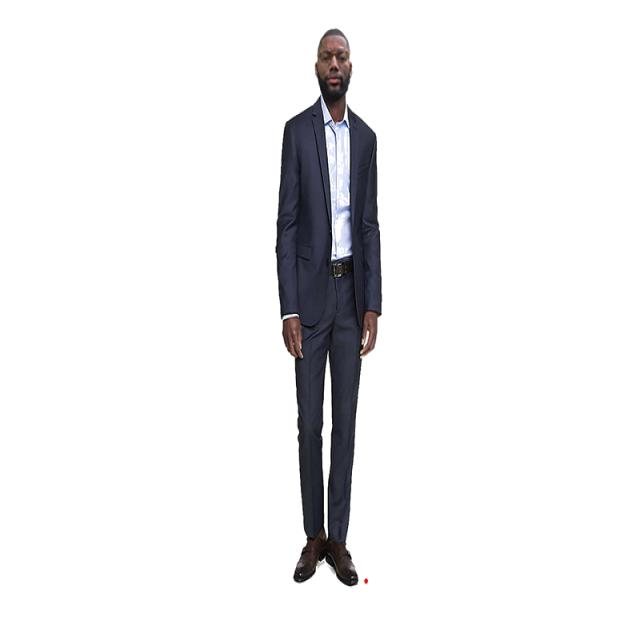jovem: (262, 20, 404, 590)
